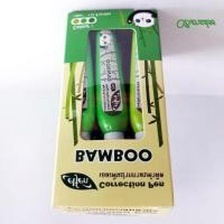book: (44, 4, 177, 219)
correction_fluid: (91, 13, 132, 192), (125, 13, 164, 191), (60, 13, 99, 190)
